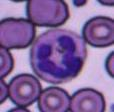N: (30, 28, 86, 84)
